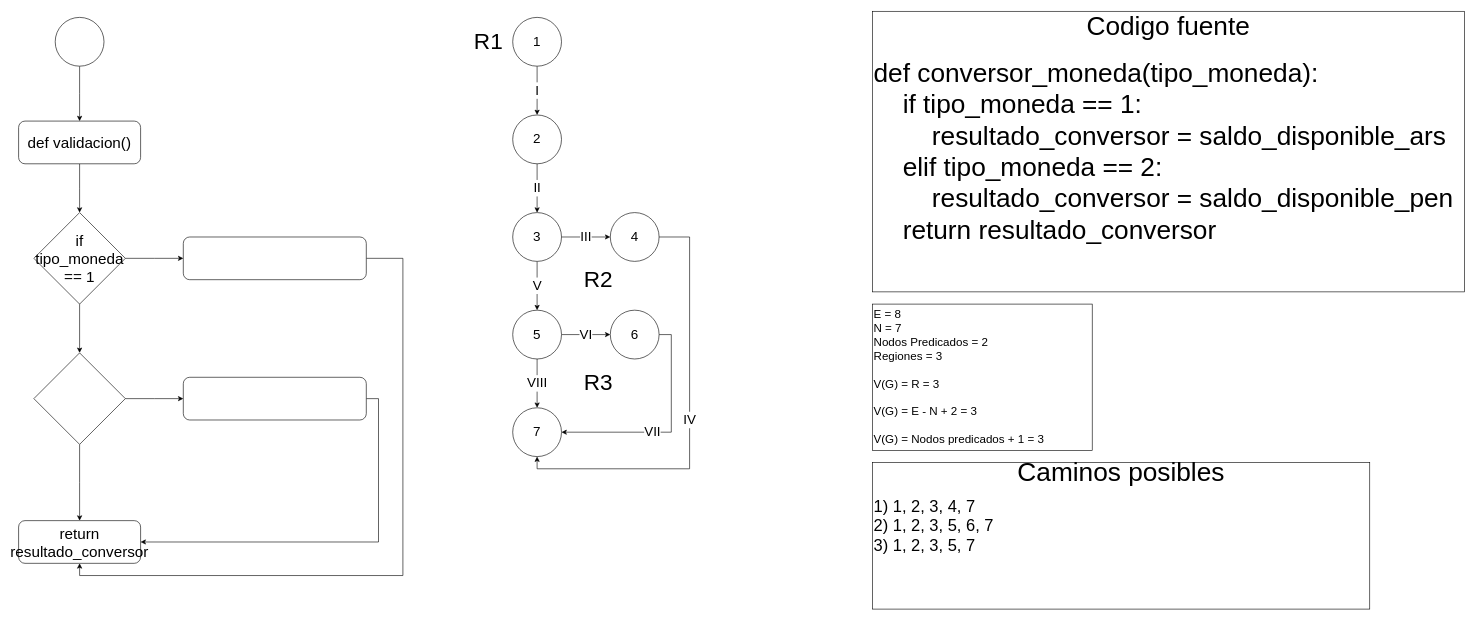
This 1475x620 diagram has some shape labels left out. The centre of each missing label's shape, as x and y in pixels:
"elif tipo_moneda == 2" belongs at point (79, 398).
"INICIO" belongs at point (79, 41).
"resultado_conversor = saldo_disponible_ars" belongs at point (274, 258).
"resultado_conversor = saldo_disponible_pen" belongs at point (274, 398).
